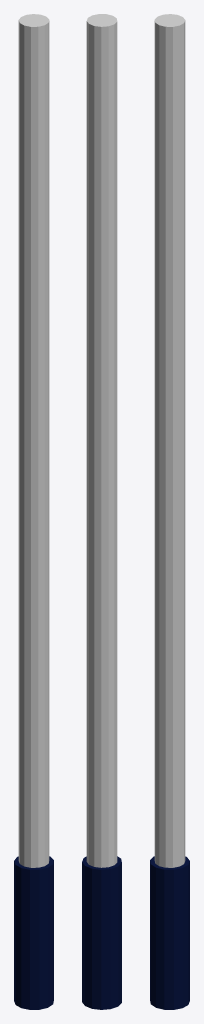
Rendered from saber.fbx.
3 views of the same model, side by side, from view 1: azimuth 30°, elevation 25°; view 2: azimuth 150°, elevation 25°; view 3: azimuth 330°, elevation 25° (orthographic).
Parts seen in each view (by area): view 1: 円柱, 円柱.001; view 2: 円柱, 円柱.001; view 3: 円柱, 円柱.001.
Boxes of the visible parts, x1=… form: 円柱: x1=18, y1=14, x2=49, y2=867; 円柱.001: x1=14, y1=856, x2=53, y2=1009; 円柱: x1=86, y1=14, x2=117, y2=867; 円柱.001: x1=82, y1=856, x2=121, y2=1009; 円柱: x1=154, y1=14, x2=185, y2=867; 円柱.001: x1=150, y1=856, x2=189, y2=1009.
Bounding box in the file's own units: 0.2581 × 7 × 0.2562.
